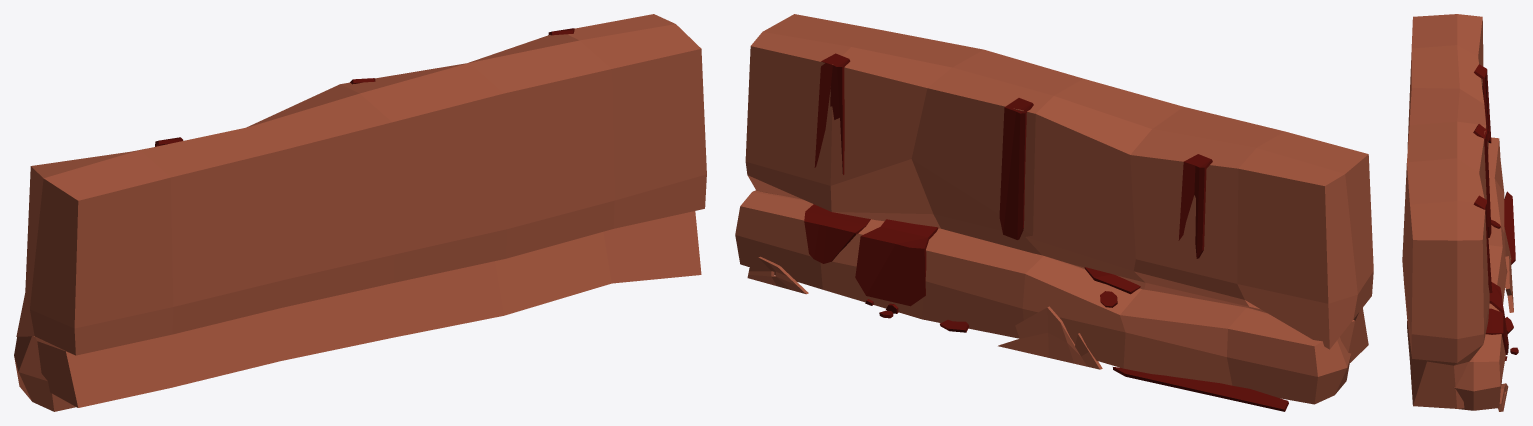
File: LawaRocks.fbx
3 views of the same model, side by side, from view 1: azimuth 30°, elevation 25°; view 2: azimuth 150°, elevation 25°; view 3: azimuth 270°, elevation 25° (orthographic). The views are drawn at different scales.
Parts seen in each view (by area): view 1: Cube; view 2: Cube, Plane; view 3: Cube, Plane.
Part boxes in pixels (x1,y1,x2,y2): Cube: [14, 14, 706, 411]; Cube: [735, 14, 1373, 404]; Plane: [804, 53, 1288, 411]; Cube: [1402, 14, 1513, 411]; Plane: [1473, 64, 1518, 360].
Bounding box in the file's own units: 1822 × 672 × 379.
